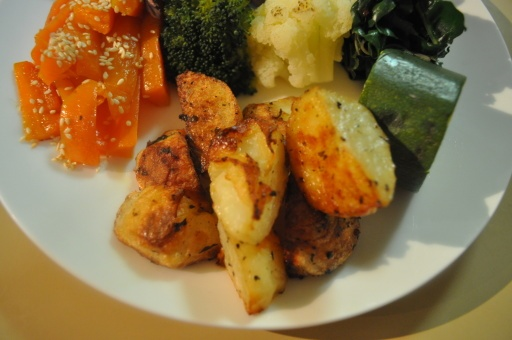background: (10, 0, 373, 168)
